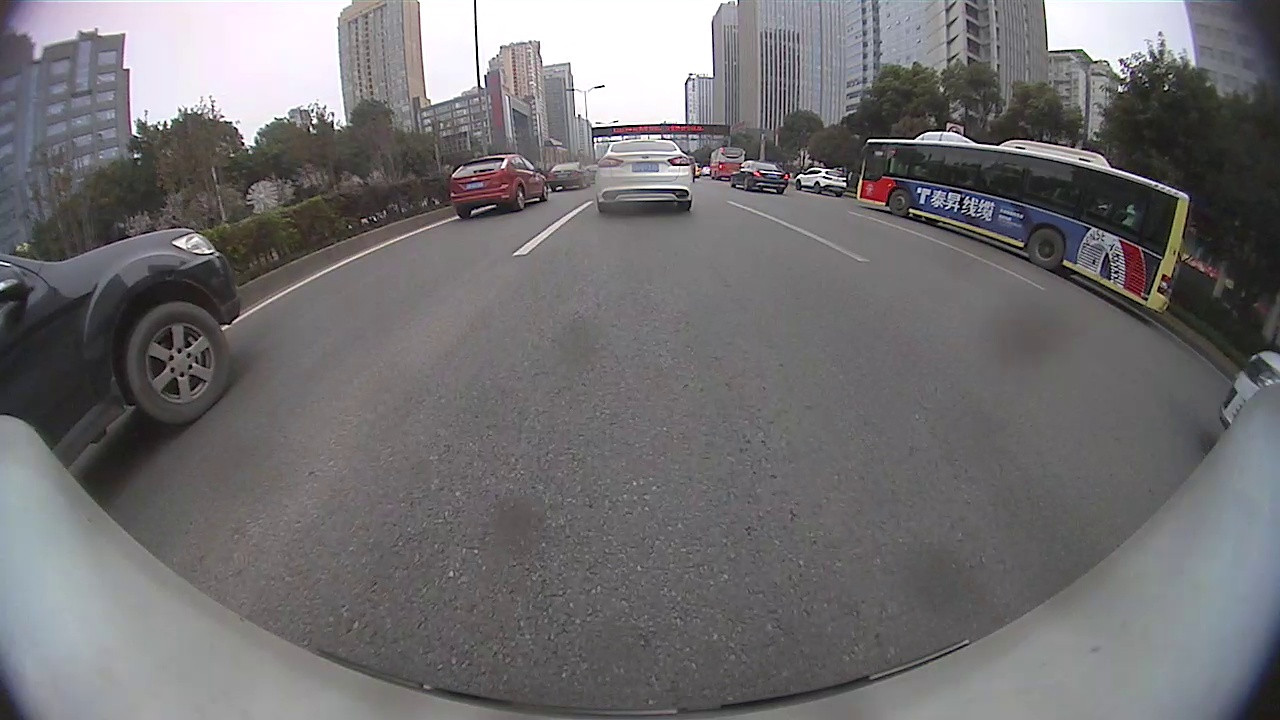bus: (855, 131, 1193, 317)
car: (1, 226, 241, 471), (593, 138, 694, 213), (449, 153, 550, 221), (730, 159, 791, 196), (794, 165, 848, 199)
front: (128, 295, 231, 429), (887, 187, 915, 221), (541, 183, 552, 203)
rear: (1023, 224, 1067, 271), (514, 184, 528, 213)
